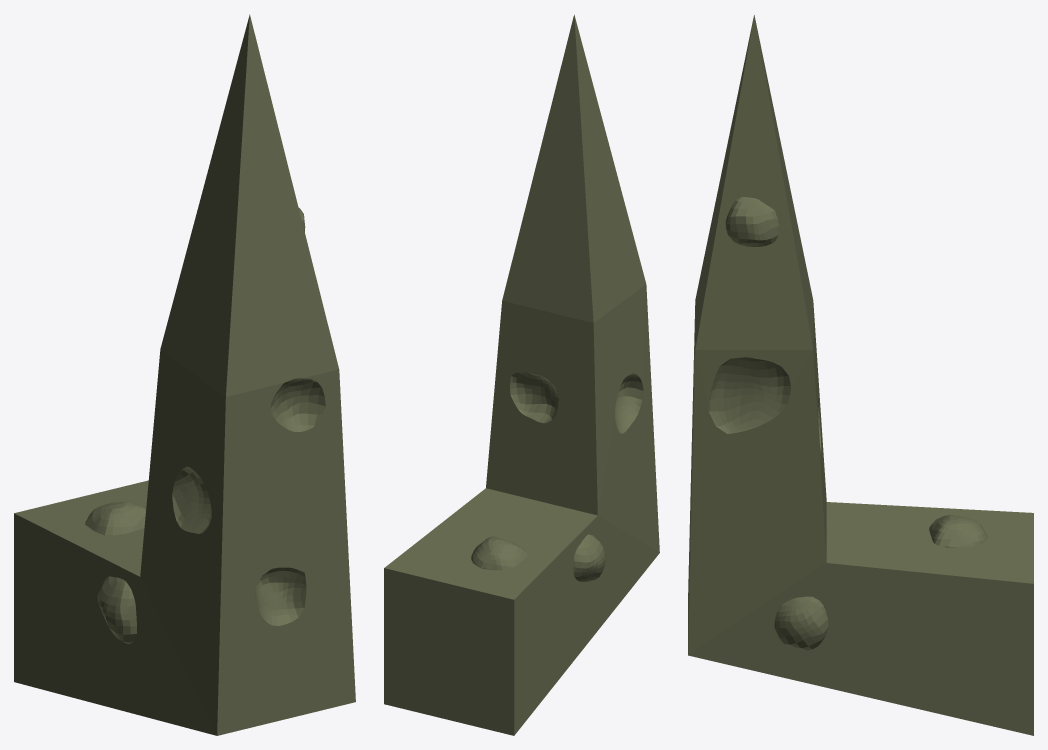
The model's file is hornfloat.glb.
The picture shows the model from 3 angles, left to right: view 1: azimuth 30°, elevation 25°; view 2: azimuth 150°, elevation 25°; view 3: azimuth 270°, elevation 25°; orthographic projection. The views are drawn at different scales.
Parts seen in each view (by area): view 1: Sphere.002; view 2: Sphere.002; view 3: Sphere.002.
Boxes of the visible parts, x1,y1,x2,y2 form: Sphere.002: (14,14,355,735); Sphere.002: (384,14,659,735); Sphere.002: (688,15,1033,735).
Bounding box in the file's own units: 2.52 × 10.49 × 4.79.
